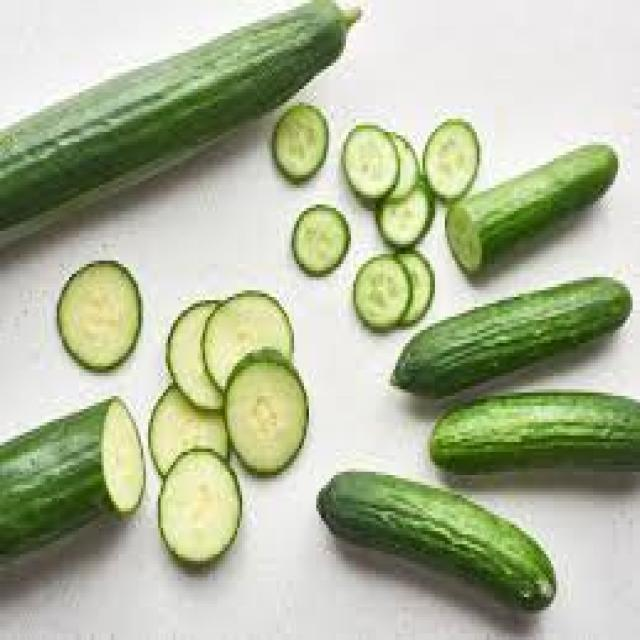cucumber: (0, 0, 356, 246), (320, 468, 561, 616), (396, 274, 630, 396), (431, 391, 640, 468)
